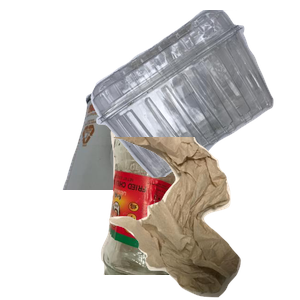glass: (98, 120, 286, 300)
metal: (60, 82, 300, 262)
plastic: (88, 10, 300, 180)
trash: (103, 137, 300, 300)
